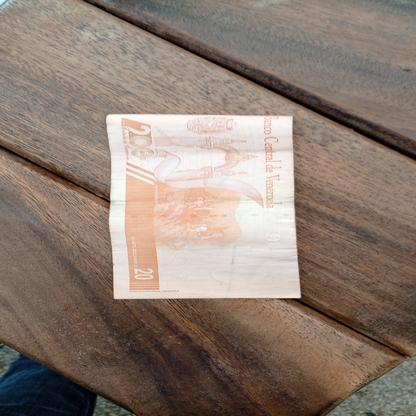twenty-back-vef: (106, 114, 301, 299)
